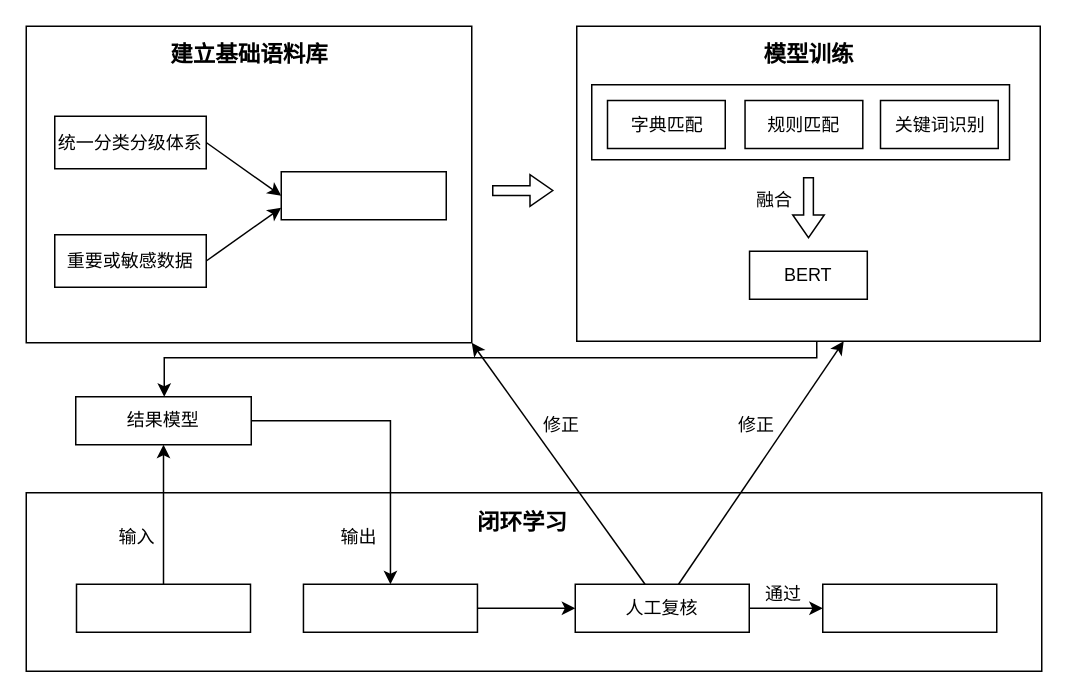
The diagram is 1068 pixels wide and 698 high, and some of its shapes have lost their labels. The centre of each missing label's shape, as x and y in pixels:
"上架展示" belongs at point 909,607.
"人工打标" belongs at point 363,195.
"分级分类结果" belongs at point 389,607.
"存量数据" belongs at point 162,607.
